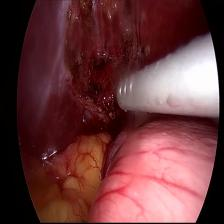Irrigator: (115, 64, 147, 118)
